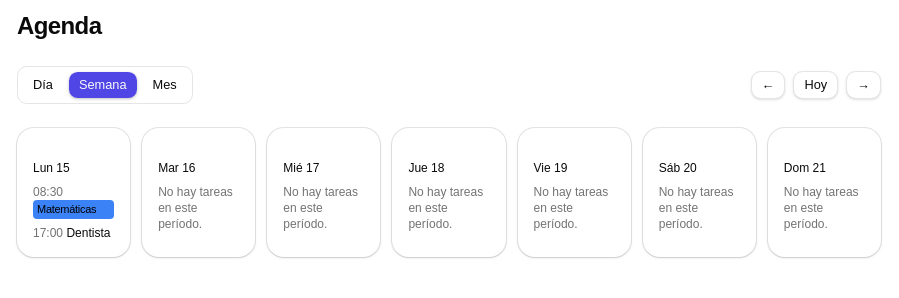
Test: PaginaAgenda › clases del horario de clase › en la vista de día, la clase sale con su hora de fin y su aula
Click the button "lun 15" at (74, 168), box [33,160,114,176]
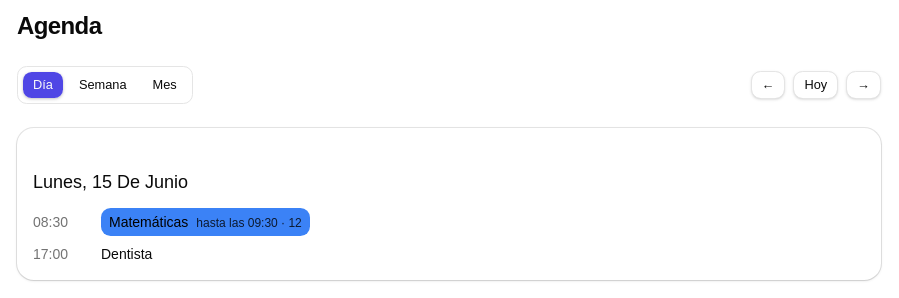
Check: the text "hasta las 09:30 · 12" is shown, box [196,215,302,231]
